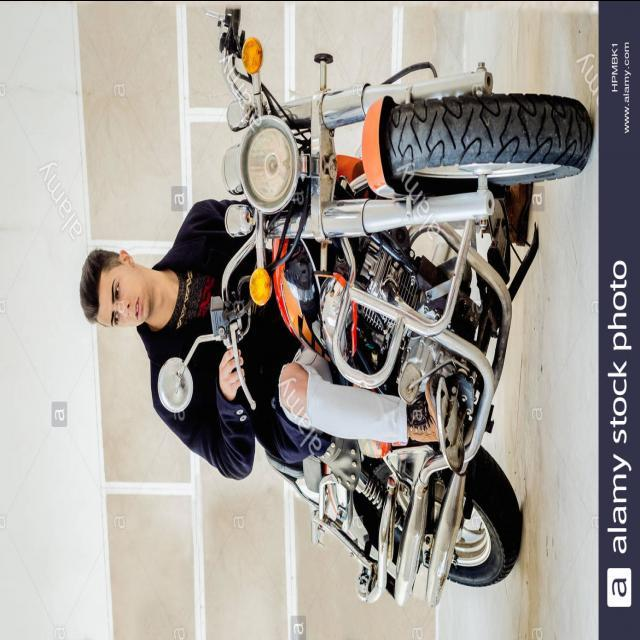motorcycle: (76, 6, 594, 602)
